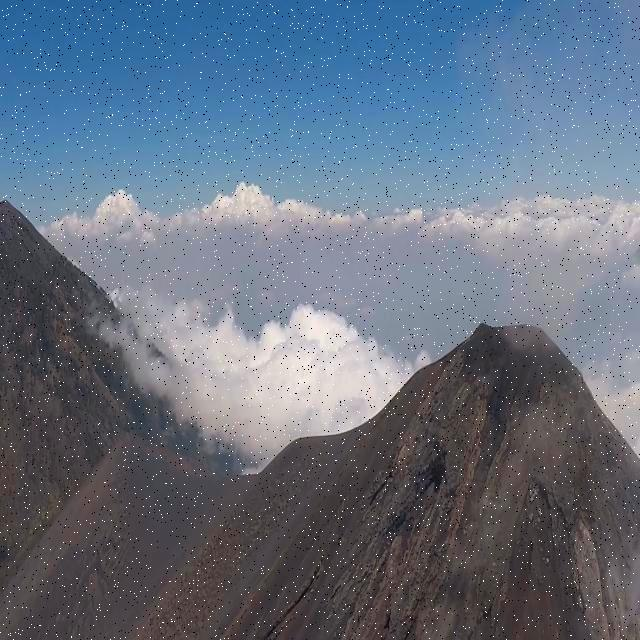Summit: (125, 300, 640, 640)
